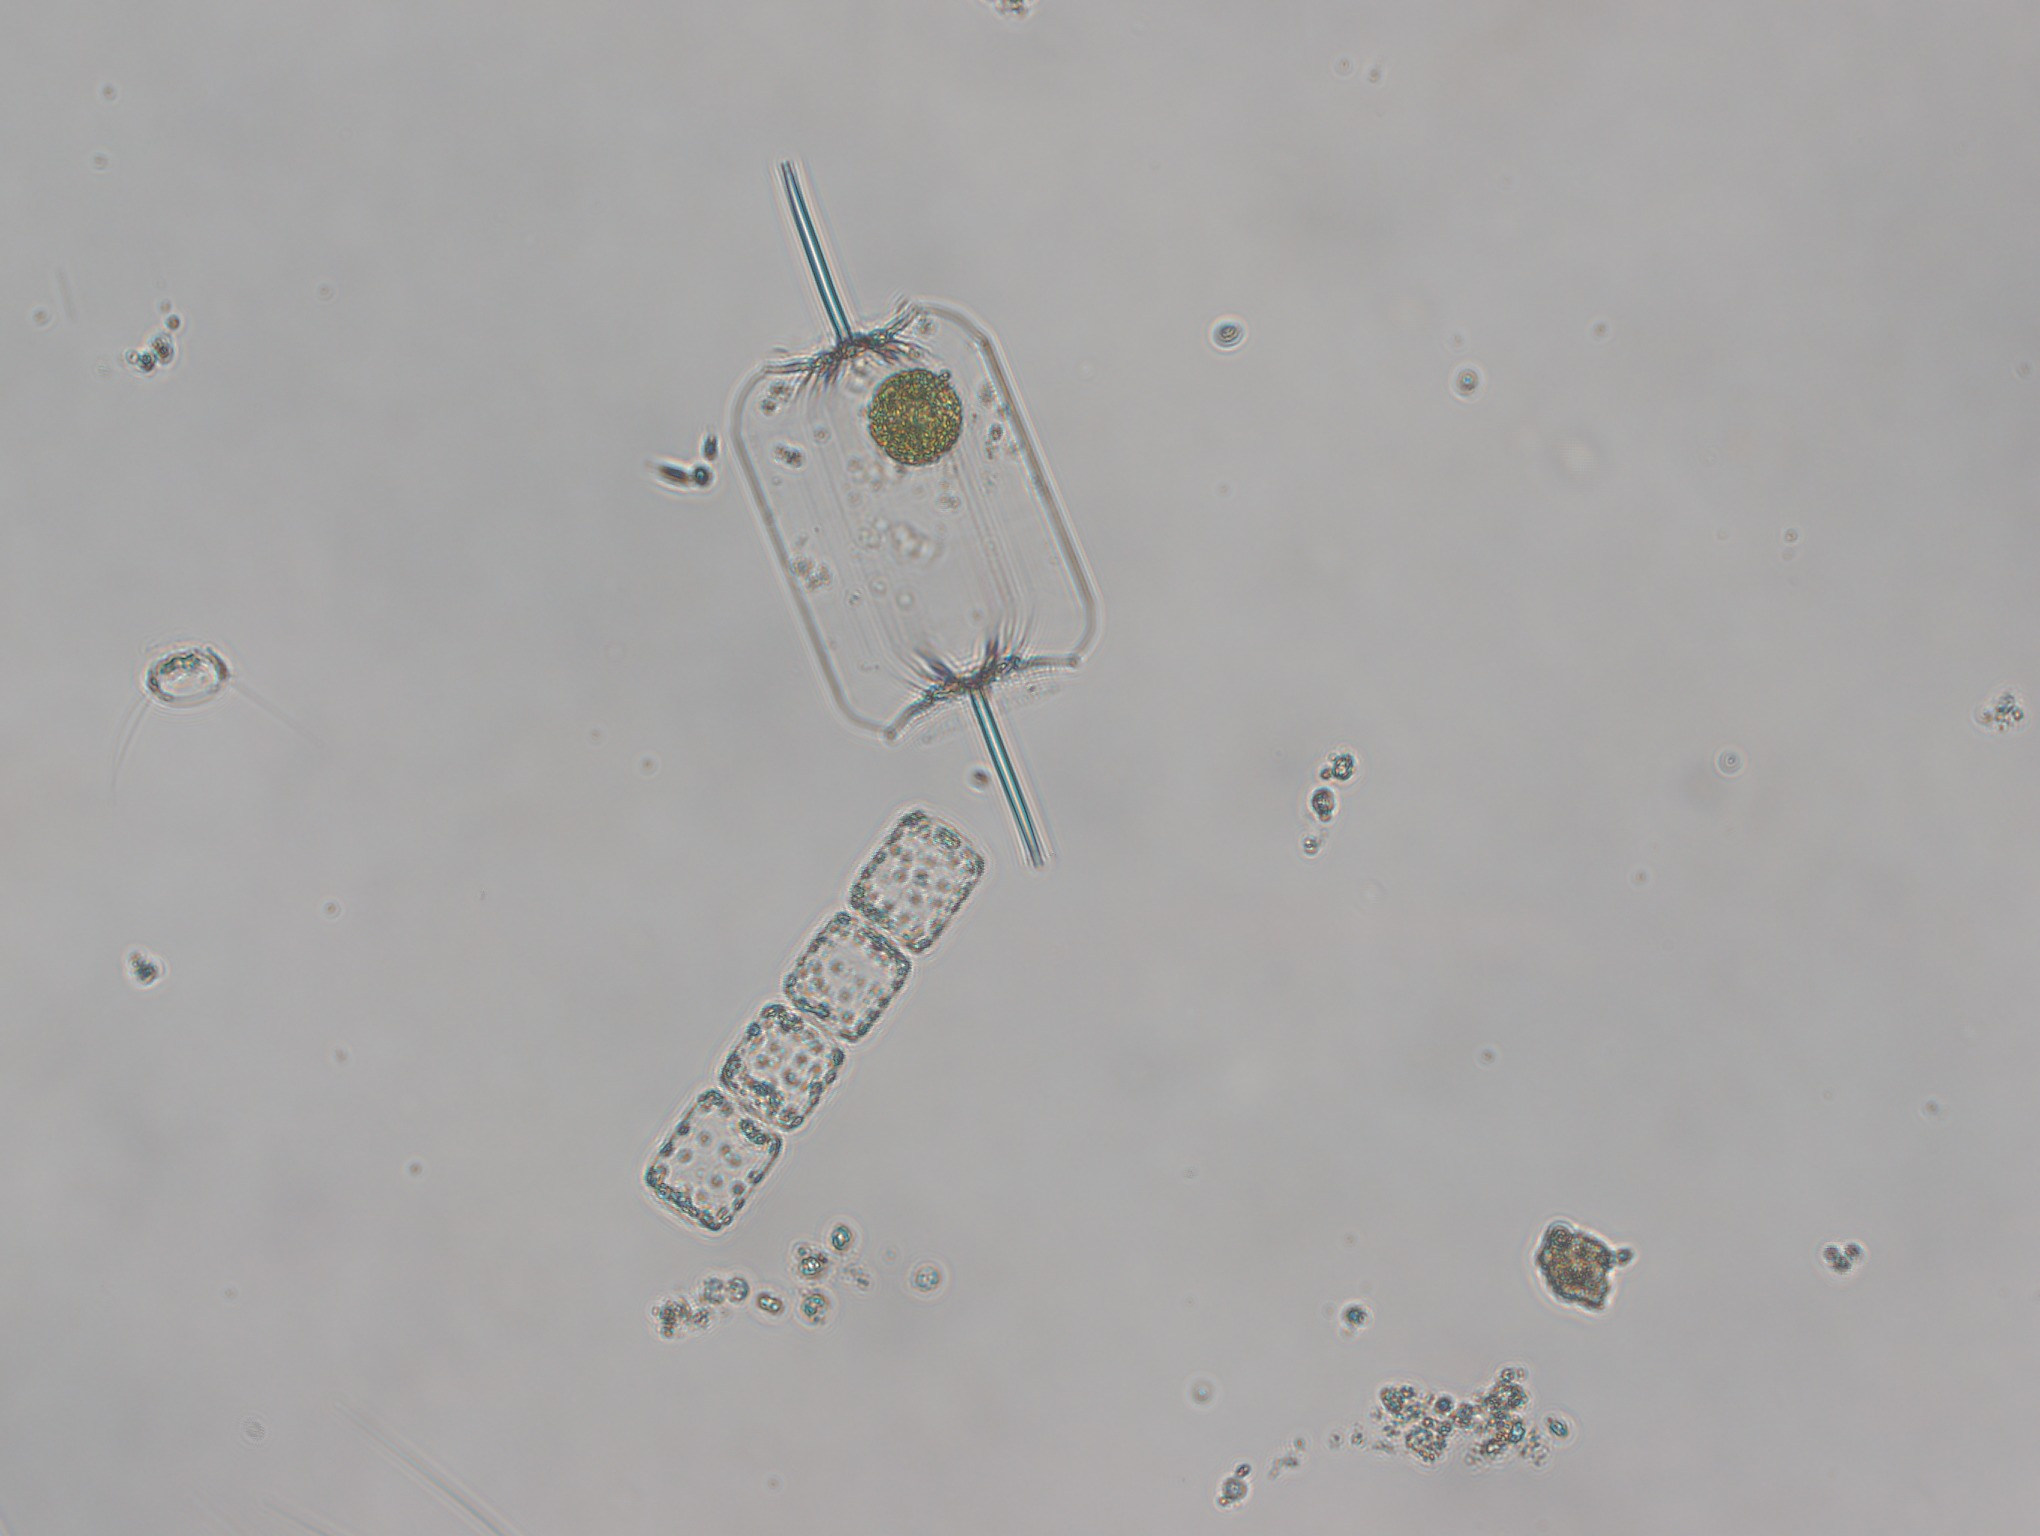detonula pumila: (602, 808, 1011, 1238)
ditylum: (714, 153, 1121, 878)
